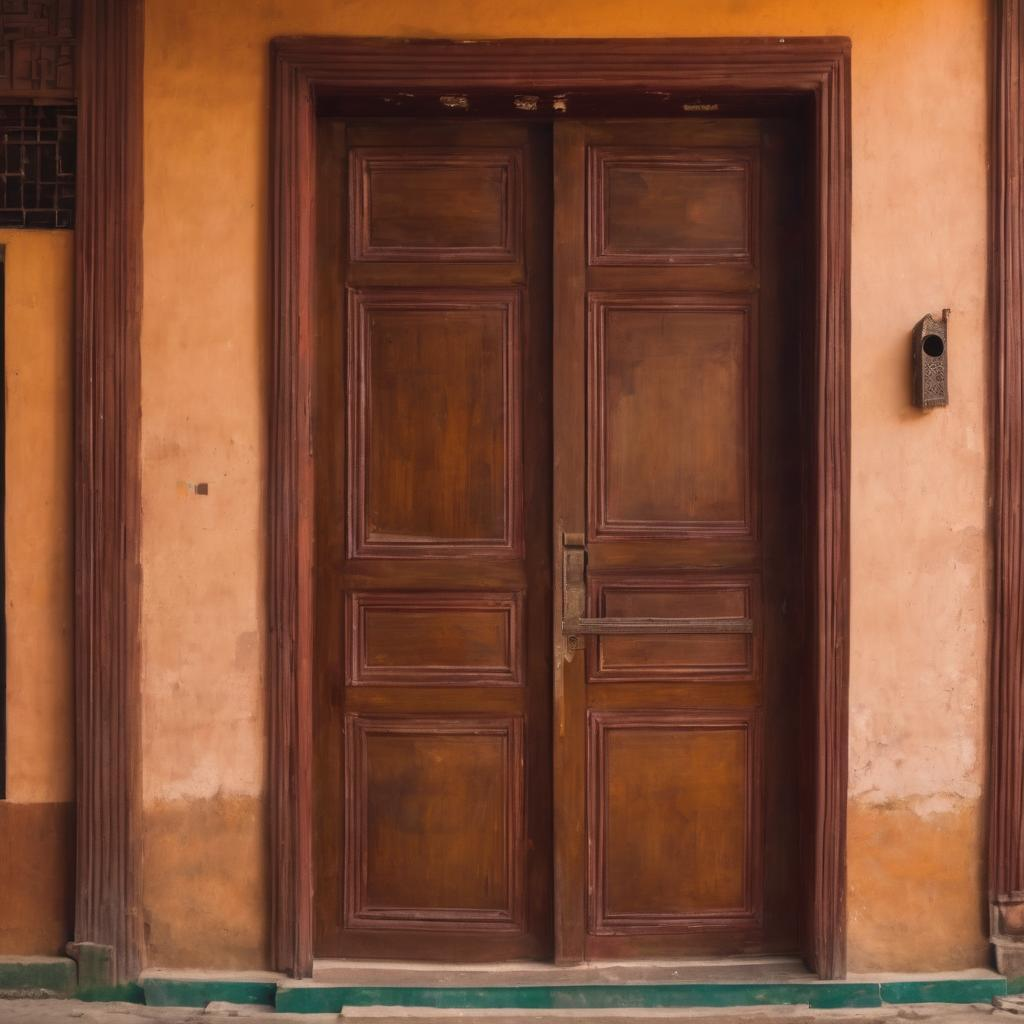door: (262, 25, 552, 990), (561, 28, 840, 960)
